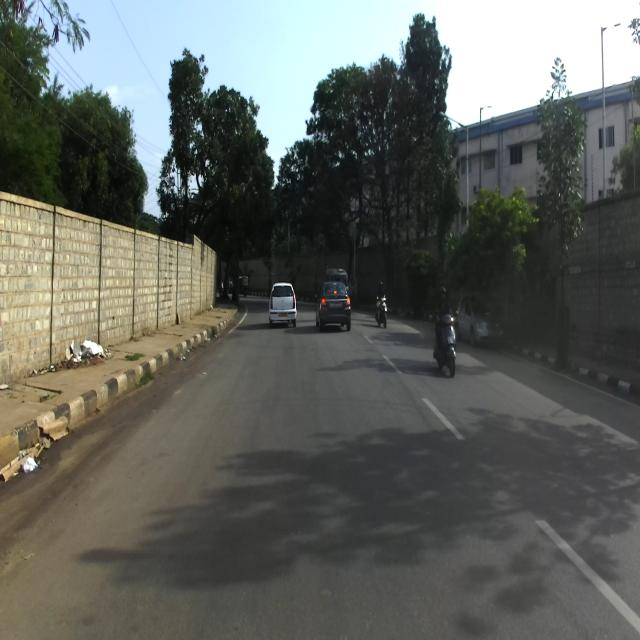car ahead at: (266, 279, 299, 327), (318, 281, 353, 326)
